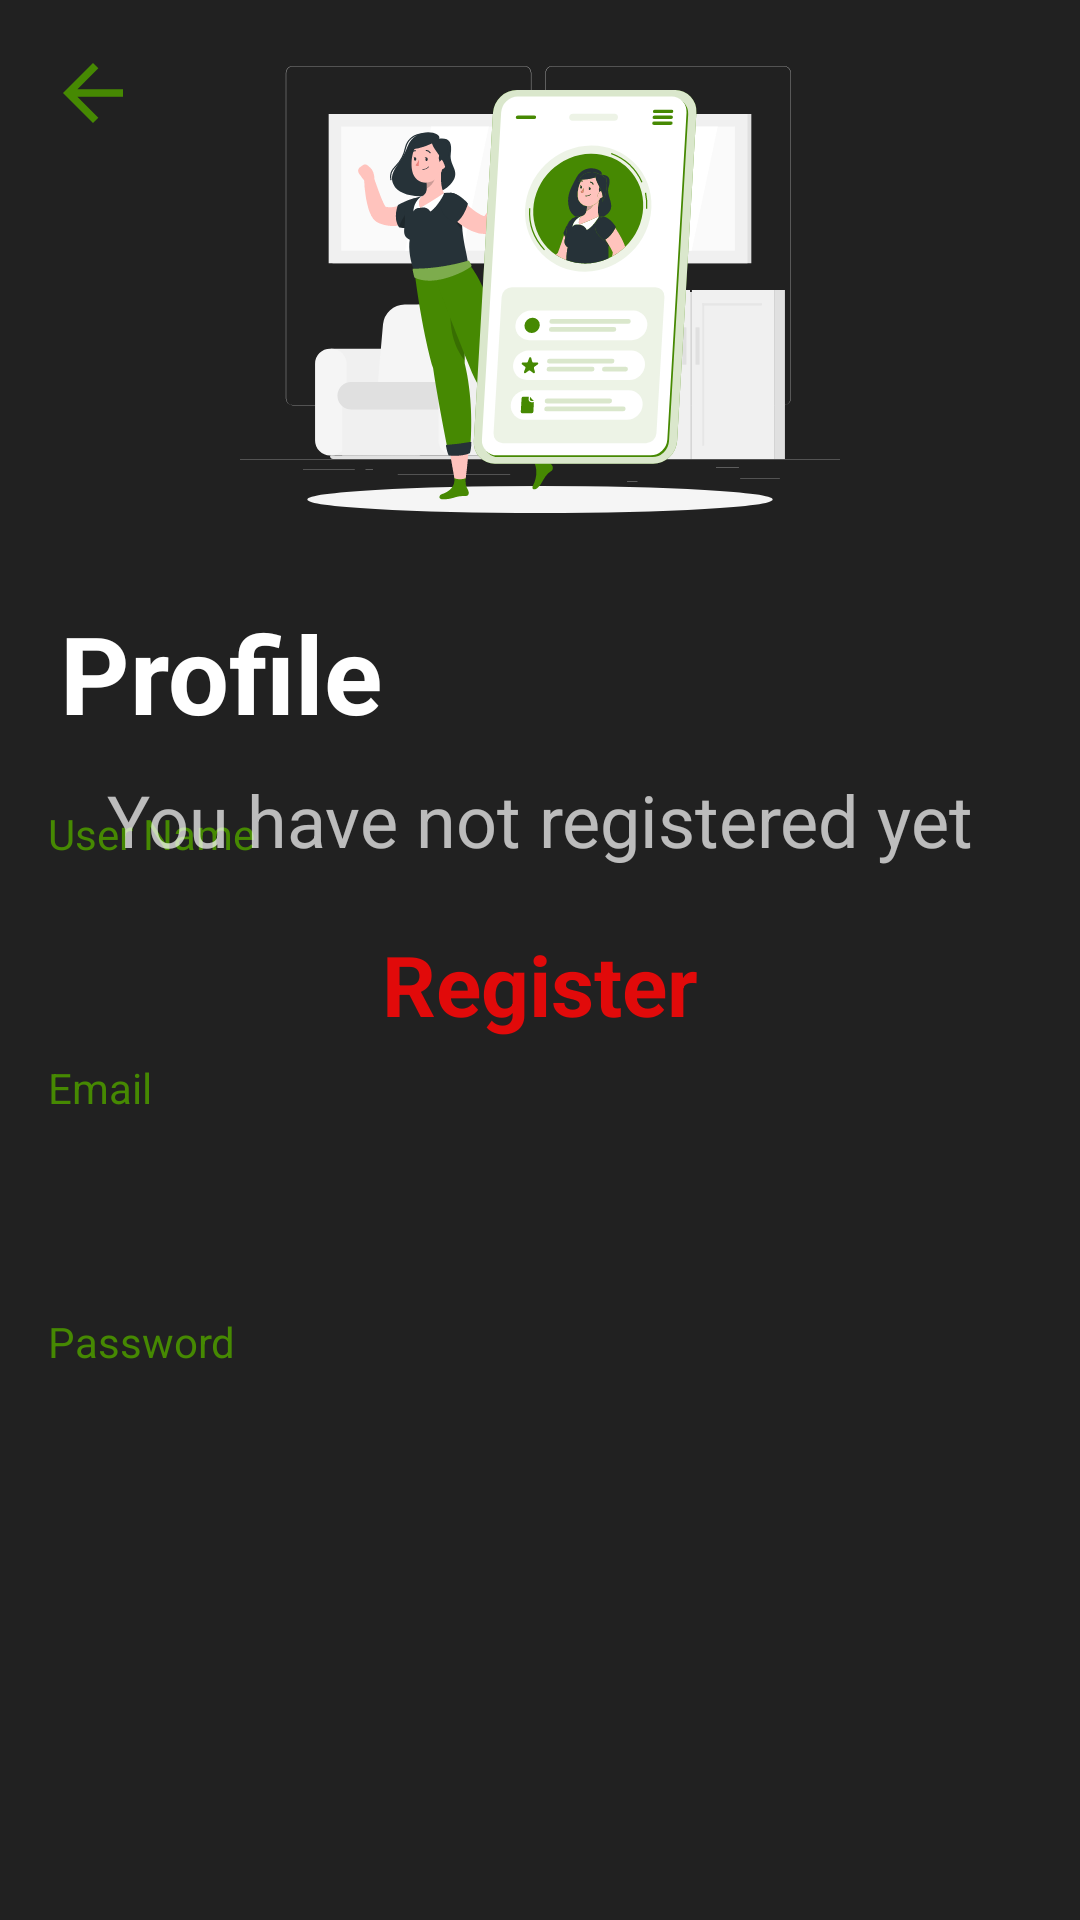

Icon bounding boxes for this 1080w x 1920h phone screenshot, format bbox=[x1, y1, x2, y2]:
back: bbox=[63, 63, 123, 123]
